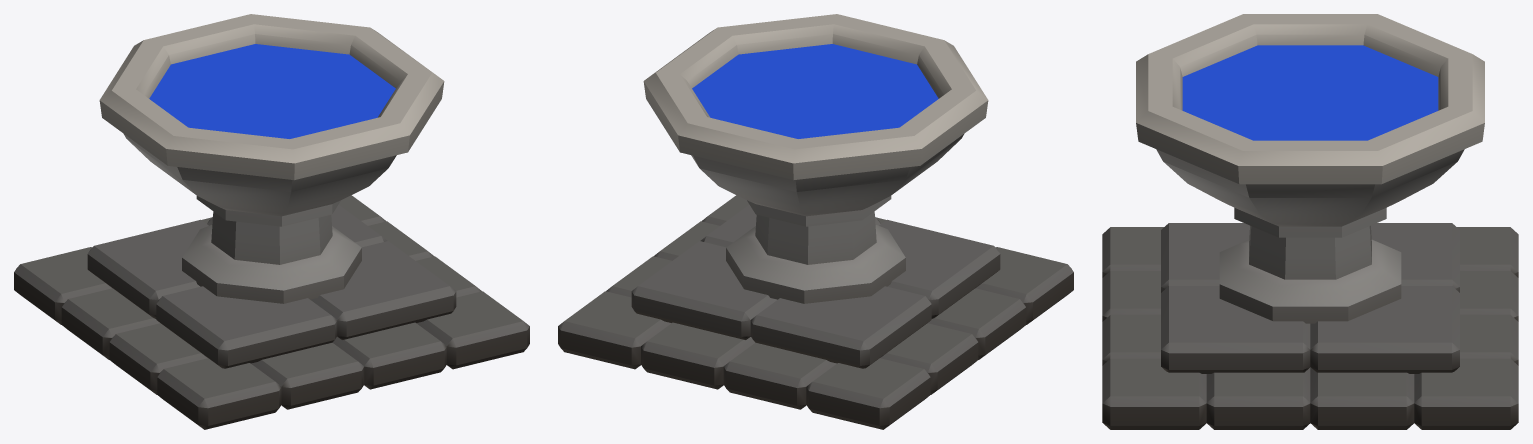
The model's file is fountain_font_mana.glb.
3 views of the same model, side by side, from view 1: azimuth 30°, elevation 25°; view 2: azimuth 150°, elevation 25°; view 3: azimuth 270°, elevation 25° (orthographic). The views are drawn at different scales.
Parts seen in each view (by area): view 1: Item; view 2: Item; view 3: Item.
Boxes of the visible parts, x1,y1,x2,y2 form: Item: (14, 14, 529, 429); Item: (558, 14, 1073, 429); Item: (1102, 14, 1518, 429).
Bounding box in the file's own units: 1.56 × 1.09 × 1.56.
Materials: 2 (2 with a texture image).
